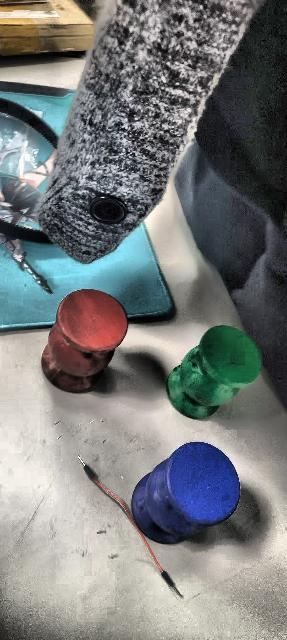blue: (131, 441, 241, 544)
green: (163, 317, 261, 418)
red: (36, 287, 132, 395)
